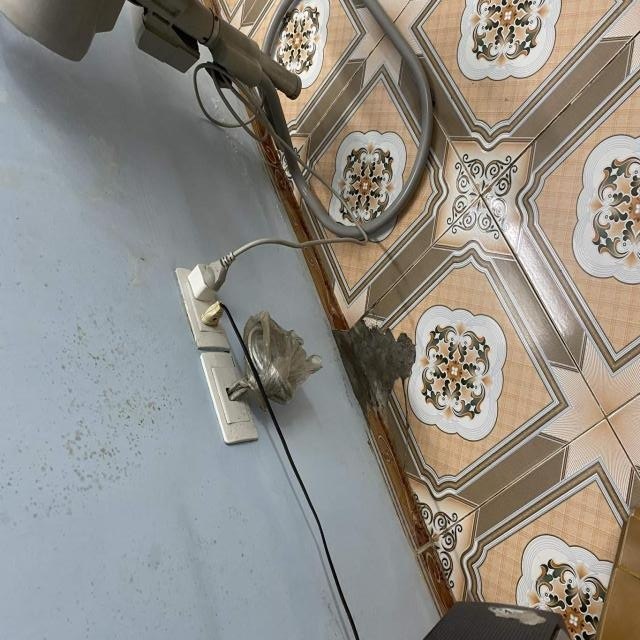outlet: (174, 266, 230, 350)
